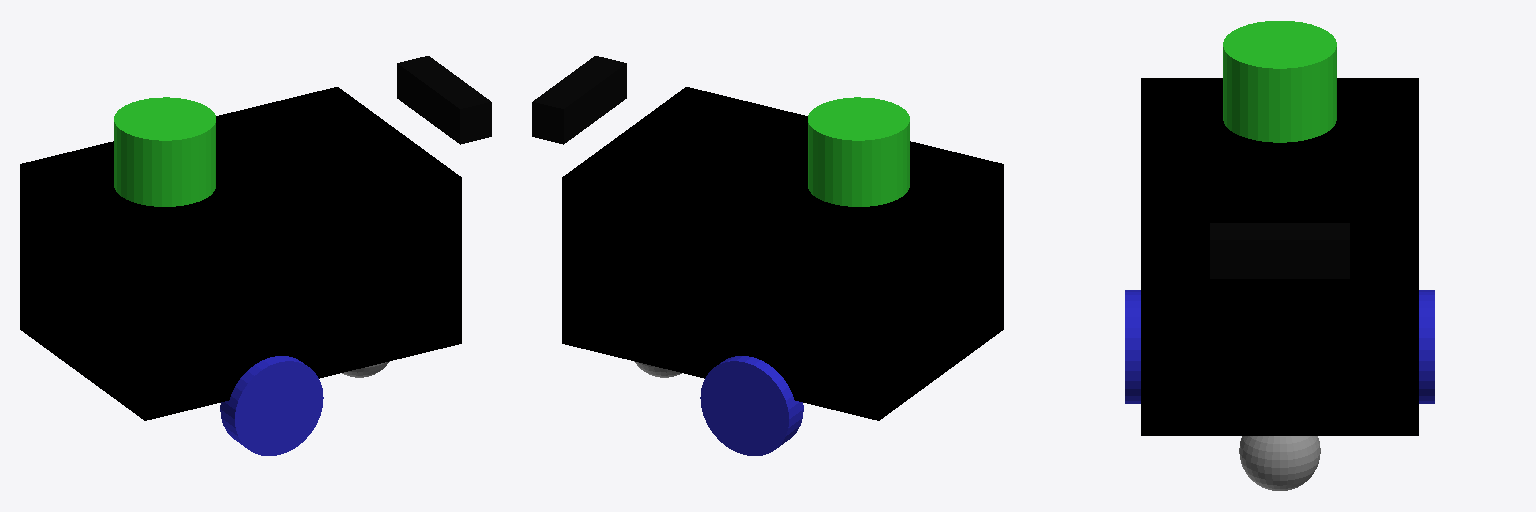
The robot description file, URDF, robot "burger":
<?xml version="1.0"?>
<robot name="burger">

  <!-- ================= MATERIALI GLOBALI ================= -->
  <material name="black">
    <color rgba="0.05 0.05 0.05 1.0"/>
  </material>

  <material name="gray">
    <color rgba="0.6 0.6 0.6 1.0"/>
  </material>

  <material name="green">
    <color rgba="0.2 0.8 0.2 1.0"/>
  </material>

  <material name="blue">
    <color rgba="0.2 0.2 0.8 1.0"/>
  </material>

  <material name="semi_black">
    <color rgba="0 0 0 0.80"/>
  </material>

  <!-- ================= BASE FOOTPRINT ================= -->
  <link name="base_footprint"/>

  <joint name="base_footprint_to_base_link" type="fixed">
    <parent link="base_footprint"/>
    <child link="base_link"/>
    <origin xyz="0.025 0 0.043" rpy="0 0 0"/>
  </joint>

  <!-- ================= BASE LINK ================= -->
  <link name="base_link">
    <visual>
      <geometry>
        <box size="0.25 0.17 0.125"/>
      </geometry>
      <origin xyz="0 0 0.0625" rpy="0 0 0"/>
      <material name="semi_black"/>
    </visual>
  </link>

  <!-- ================= RUOTA SINISTRA ================= -->
  <link name="left_wheel">
    <visual>
      <geometry>
        <cylinder radius="0.035" length="0.02"/>
      </geometry>
      <material name="blue"/>
    </visual>
  </link>

  <joint name="left_wheel_joint" type="fixed">
    <parent link="base_link"/>
    <child link="left_wheel"/>
    <origin xyz="-0.025 0.085 -0.010" rpy="1.570796 0 0"/>
  </joint>

  <!-- ================= RUOTA DESTRA ================= -->
  <link name="right_wheel">
    <visual>
      <geometry>
        <cylinder radius="0.035" length="0.02"/>
      </geometry>
      <material name="blue"/>
    </visual>
  </link>

  <joint name="right_wheel_joint" type="fixed">
    <parent link="base_link"/>
    <child link="right_wheel"/>
    <origin xyz="-0.025 -0.085 -0.010" rpy="1.570796 0 0"/>
  </joint>

  <!-- ================= RUOTA PASSIVA FRONTALE ================= -->
  <link name="front_ball">
    <visual>
      <geometry>
        <sphere radius="0.025"/>
      </geometry>
      <material name="gray"/>
    </visual>
  </link>

  <joint name="front_ball_joint" type="fixed">
    <parent link="base_link"/>
    <child link="front_ball"/>
    <origin xyz="0.093 0 -0.025" rpy="0 0 0"/>
  </joint>

  <!-- ================= IMU ================= -->
  <link name="imu_link">
    <visual>
      <geometry>
        <box size="0.03 0.03 0.01"/>
      </geometry>
      <material name="blue"/>
    </visual>
  </link>

  <joint name="imu_joint" type="fixed">
    <parent link="base_link"/>
    <child link="imu_link"/>
    <origin xyz="0.026 0 0.0875" rpy="0 0 0"/>
  </joint>

  <!-- ================= LIDAR LD06 ================= -->
  <link name="laser_link">
    <visual>
      <geometry>
        <cylinder radius="0.035" length="0.05"/>
      </geometry>
      <origin xyz="-0.00 0 0.015" rpy="0 0 0"/>
     
      <material name="green"/>
    </visual>
  </link>

  <joint name="lidar_joint" type="fixed">
    <parent link="base_link"/>
    <child link="laser_link"/>
    <origin xyz="-0.06 0 0.168" rpy="0 3.14159265359 1.57079"/>
  </joint>

  <!-- ================= CAMERA REALSENSE D435i ================= -->
  <link name="camera_link">
    <visual>
      <geometry>
        <box size="0.0247 0.086 0.0266"/>
      </geometry>
      <material name="black"/>
    </visual>
  </link>

  <joint name="camera_joint" type="fixed">
    <parent link="base_link"/>
    <child link="camera_link"/>
    <origin xyz="0.160 0 0.141" rpy="0 0 0"/>
  </joint>

  <!-- ================= CAMERA OPTICAL FRAME (REP-103) ================= -->
  <!--<link name="camera_optical_frame"/>
 
  <joint name="camera_optical_joint" type="fixed">
    <parent link="camera_link"/>
    <child link="camera_optical_frame"/>
    <origin xyz="0 0 0" rpy="-1.570796 0 -1.570796"/>
  </joint>
-->
</robot>

--- What the picture shows (computed from the rendered views, not written in the file) ---
3 views of the same robot in one strip: view 1: azimuth 30°, elevation 25°; view 2: azimuth 150°, elevation 25°; view 3: azimuth 270°, elevation 25° (orthographic).
Robot: burger — 8 links, 7 joints (7 fixed); root link base_footprint; default pose: all joints at 0.
Links seen in each view (by area): view 1: base_link, laser_link, right_wheel, camera_link; view 2: base_link, laser_link, left_wheel, camera_link; view 3: base_link, laser_link, camera_link, front_ball, left_wheel, right_wheel.
Link boxes in pixels (bbox=[...]): base_link: bbox=[20, 87, 461, 420]; laser_link: bbox=[114, 97, 215, 206]; right_wheel: bbox=[220, 356, 323, 455]; camera_link: bbox=[397, 56, 491, 144]; base_link: bbox=[562, 87, 1003, 420]; laser_link: bbox=[808, 97, 909, 206]; left_wheel: bbox=[700, 356, 803, 455]; camera_link: bbox=[532, 56, 626, 144]; base_link: bbox=[1141, 78, 1418, 435]; laser_link: bbox=[1223, 21, 1336, 142]; camera_link: bbox=[1210, 223, 1349, 278]; front_ball: bbox=[1239, 436, 1320, 490]; left_wheel: bbox=[1419, 290, 1434, 403]; right_wheel: bbox=[1125, 290, 1140, 403].
Size in the robot's own frame: 0.2973 by 0.19 by 0.228 metres.
Geometry: primitives only (box / cylinder / sphere), no mesh files.